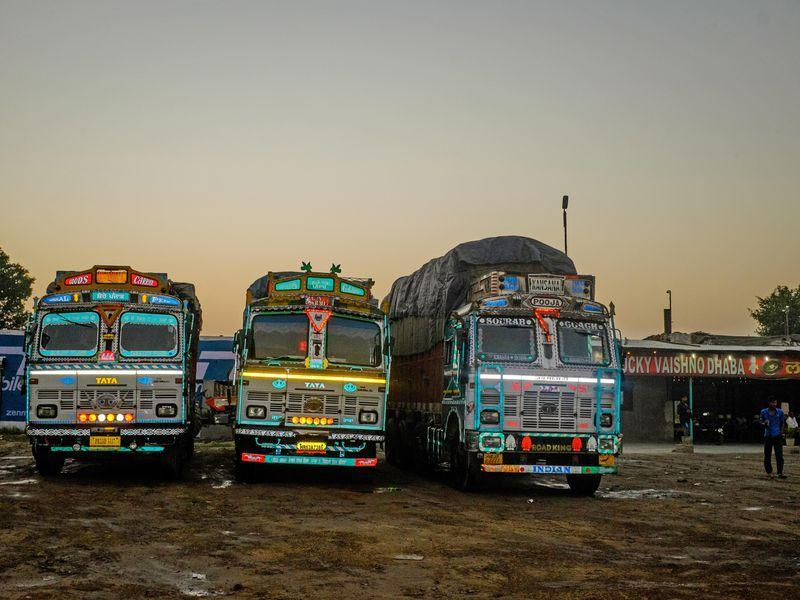truck: (39, 234, 667, 479)
